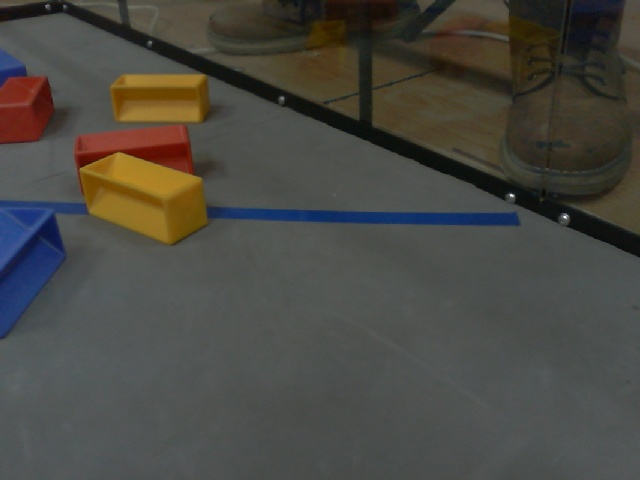BlueSample: (1, 199, 67, 340), (1, 50, 26, 91)
RedSample: (68, 125, 194, 183), (1, 73, 57, 144)
YellowSample: (76, 151, 212, 247), (108, 73, 212, 125)
